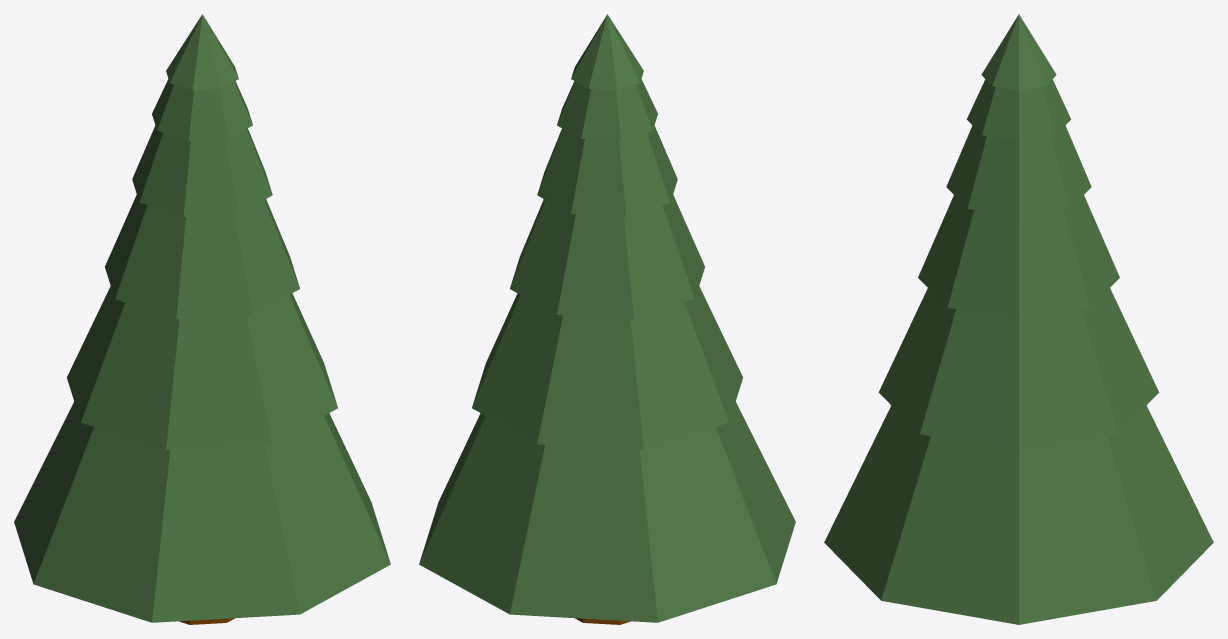
File: PineTree.gltf
The picture shows the model from 3 angles, left to right: view 1: azimuth 30°, elevation 25°; view 2: azimuth 150°, elevation 25°; view 3: azimuth 270°, elevation 25°; orthographic projection.
Visible parts, largest first — view 1: Cylinder; view 2: Cylinder; view 3: Cylinder.
Part boxes in pixels (<box>): Cylinder: <box>14,14,390,624</box>; Cylinder: <box>419,14,795,624</box>; Cylinder: <box>824,14,1213,624</box>.
Bounding box in the file's own units: 8 × 13.37 × 8.
